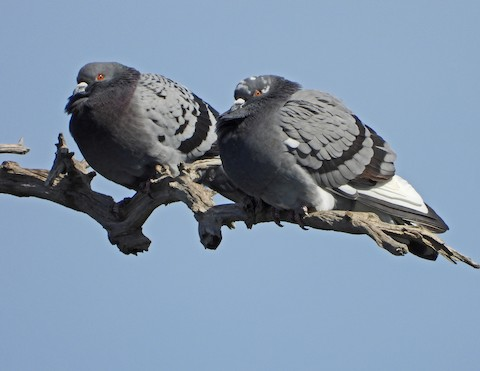pigeon: (214, 73, 459, 239), (63, 57, 267, 230)
